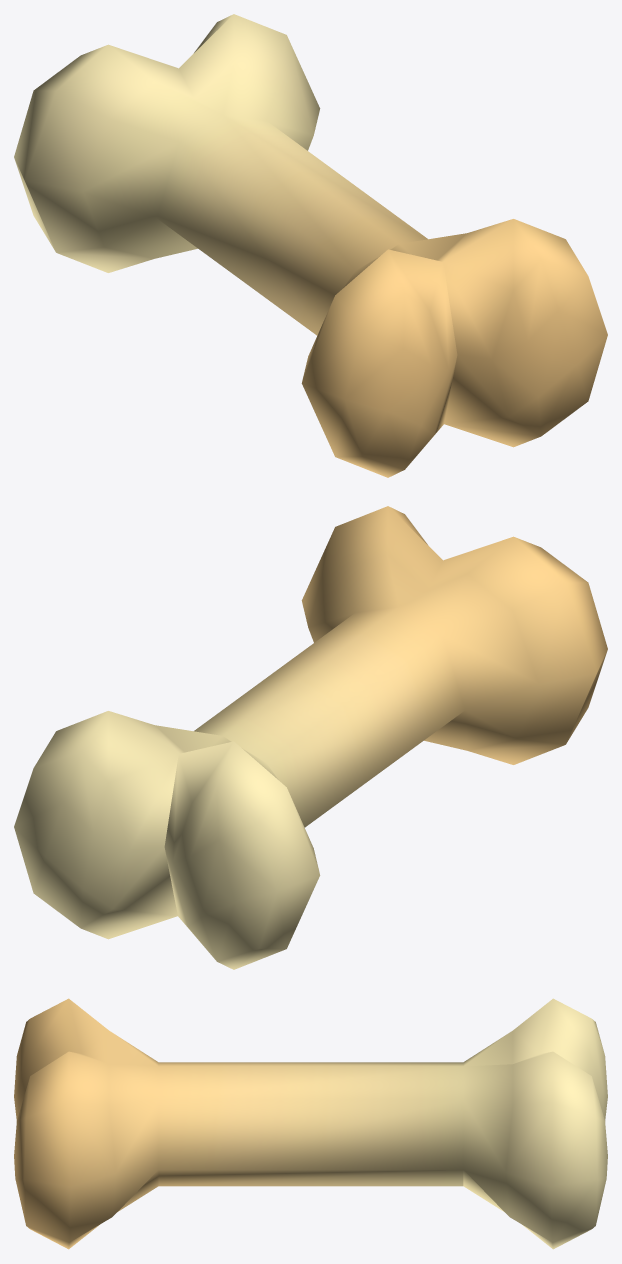
File: Loot_Bone_Skeleton_v01.fbx
3 renders of one model, top to bottom at view 1: azimuth 30°, elevation 25°; view 2: azimuth 150°, elevation 25°; view 3: azimuth 270°, elevation 25°, orthographic. The views are drawn at different scales.
Parts seen in each view (by area): view 1: Loot_Bone; view 2: Loot_Bone; view 3: Loot_Bone.
Boxes of the visible parts, x1,y1,x2,y2 form: Loot_Bone: (14, 14, 607, 477); Loot_Bone: (14, 506, 607, 969); Loot_Bone: (14, 998, 607, 1249).
Bounding box in the file's own units: 37.7 × 27.87 × 75.8.
